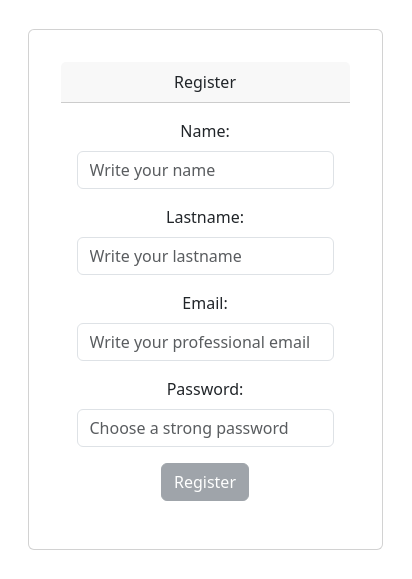
Test case: Register Page › Error Messages › Lastname input errors for less than 3 chars.
Type "er" into the field with test id "lastname-input" at (206, 256), box [77,237,334,275]
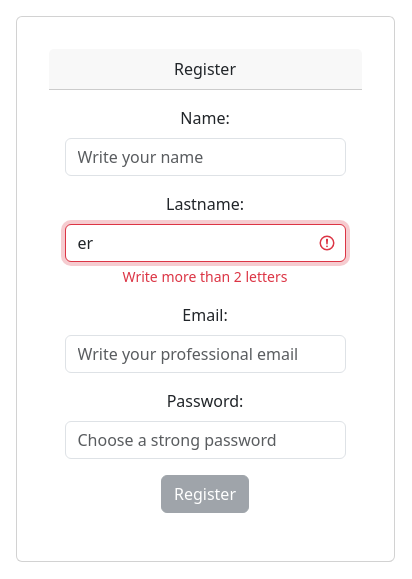
Now the text "Write more than 2 letters" is shown, box [122,267,288,286]
